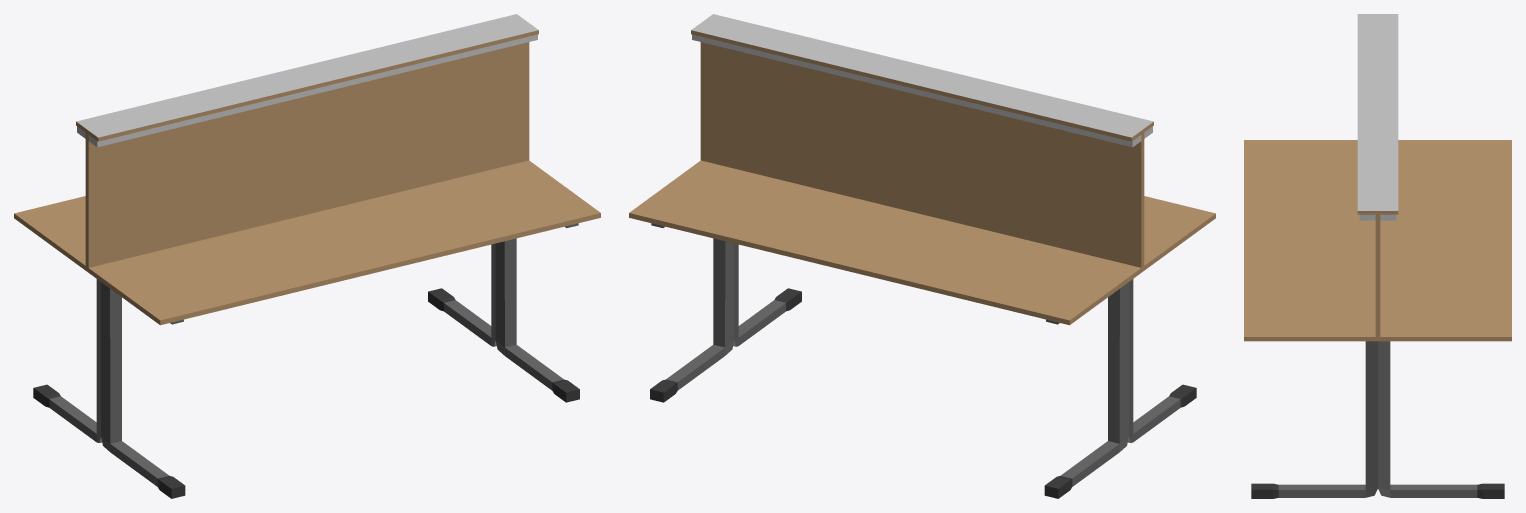
The model's file is stol_1.fbx.
3 renders of one model, left to right at view 1: azimuth 30°, elevation 25°; view 2: azimuth 150°, elevation 25°; view 3: azimuth 270°, elevation 25°, orthographic. The views are drawn at different scales.
Parts seen in each view (by area): view 1: stol_1; view 2: stol_1; view 3: stol_1.
Boxes of the visible parts, x1,y1,x2,y2 form: stol_1: [14, 14, 600, 498]; stol_1: [629, 14, 1215, 498]; stol_1: [1244, 14, 1511, 498].
Bounding box in the file's own units: 259 × 181 × 149.
